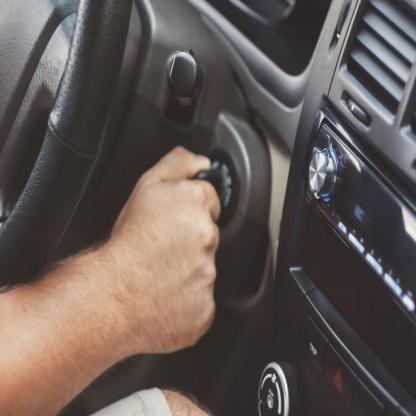keys: (193, 168, 226, 192)
